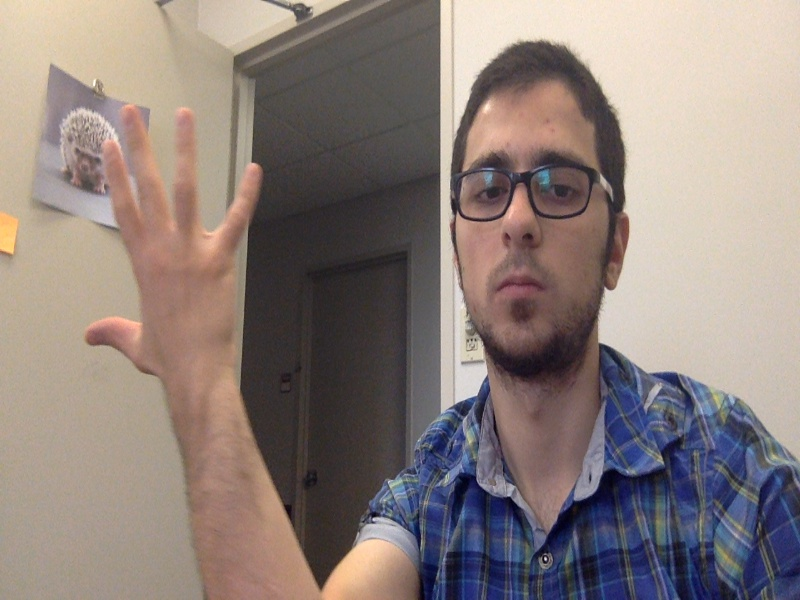5-hand: (82, 105, 263, 387)
